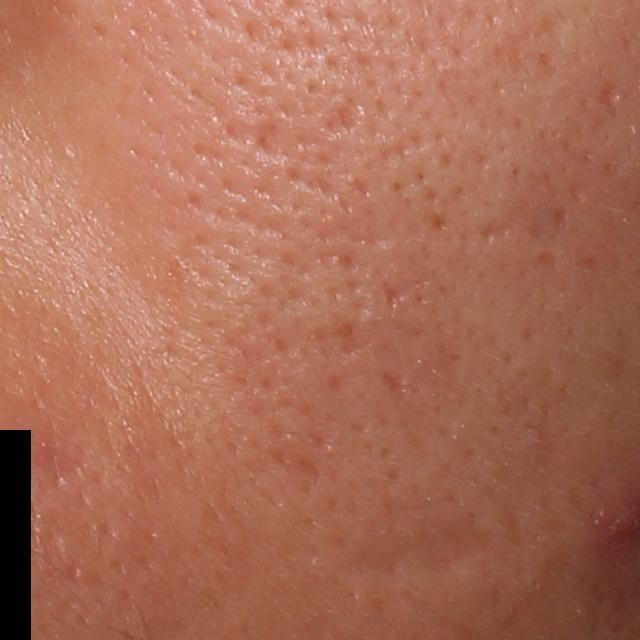atrophic_scar: (492, 10, 570, 80), (338, 322, 380, 358), (381, 275, 416, 314), (255, 117, 284, 157), (328, 104, 359, 140), (372, 367, 412, 393), (531, 248, 568, 275), (596, 78, 621, 117), (483, 219, 521, 243), (551, 204, 574, 238)
other: (326, 522, 515, 593)
